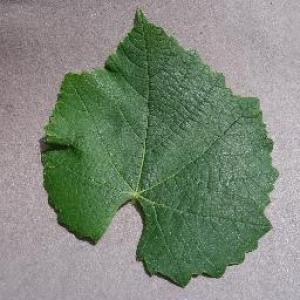Folha: (40, 7, 279, 287)
